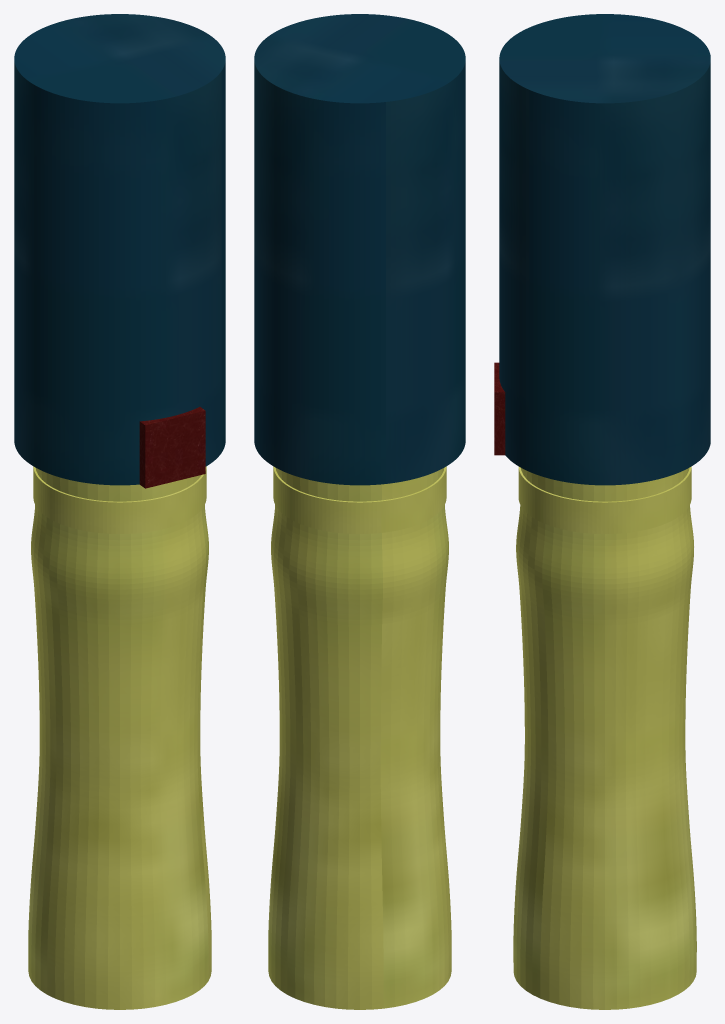
File: Container_Lipstick__0023.glb
3 views of the same model, side by side, from view 1: azimuth 30°, elevation 25°; view 2: azimuth 150°, elevation 25°; view 3: azimuth 270°, elevation 25° (orthographic).
Visible parts, largest first — view 1: cap::cap_shell, tube_base::tube_body, tube_base::center_band, tube_base::hinge_lug; view 2: cap::cap_shell, tube_base::tube_body, tube_base::center_band; view 3: cap::cap_shell, tube_base::tube_body, tube_base::center_band, tube_base::hinge_lug.
Boxes of the visible parts, bbox=[...] form: cap::cap_shell: bbox=[14, 14, 225, 485]; tube_base::tube_body: bbox=[28, 468, 211, 1009]; tube_base::center_band: bbox=[33, 466, 206, 533]; tube_base::hinge_lug: bbox=[139, 407, 205, 488]; cap::cap_shell: bbox=[254, 14, 465, 485]; tube_base::tube_body: bbox=[268, 468, 451, 1009]; tube_base::center_band: bbox=[273, 466, 446, 533]; cap::cap_shell: bbox=[499, 14, 710, 485]; tube_base::tube_body: bbox=[513, 468, 696, 1009]; tube_base::center_band: bbox=[518, 466, 691, 533]; tube_base::hinge_lug: bbox=[494, 362, 505, 455].
Bounding box in the file's own units: 0.0243 × 0.1155 × 0.0249.
5 materials, 4 textured.
